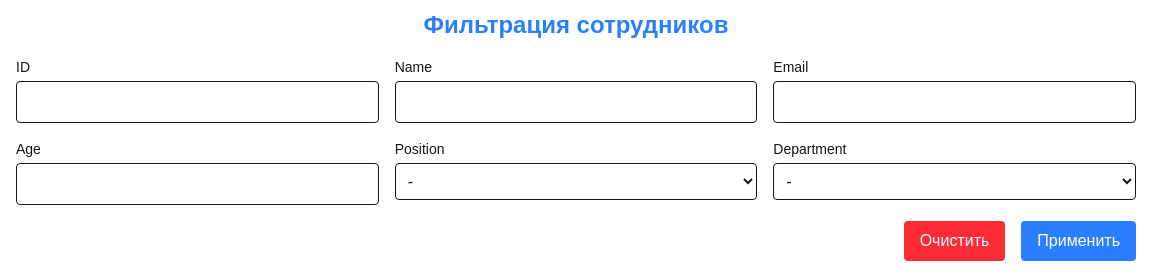
it: EmployeeFilter › сбрасывает фильтры и диспатчит пустой объект при "Очистить"
The image size is (1153, 279).
Type "10" into the field labelled "ID" at (197, 102), box [16,81,379,123]
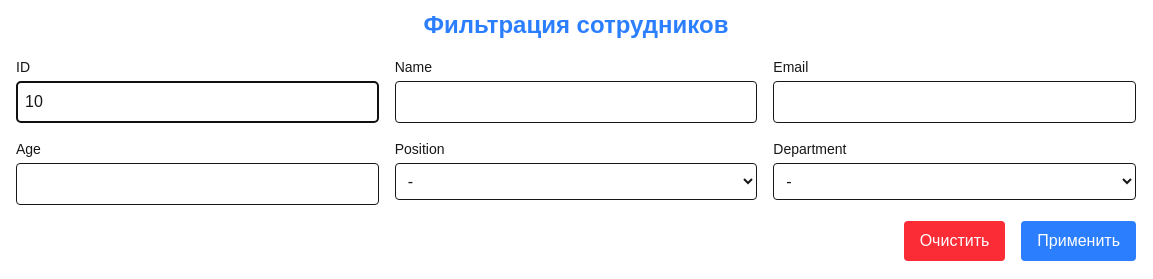
Click the button "Очистить" at (955, 241), box [904,221,1005,261]
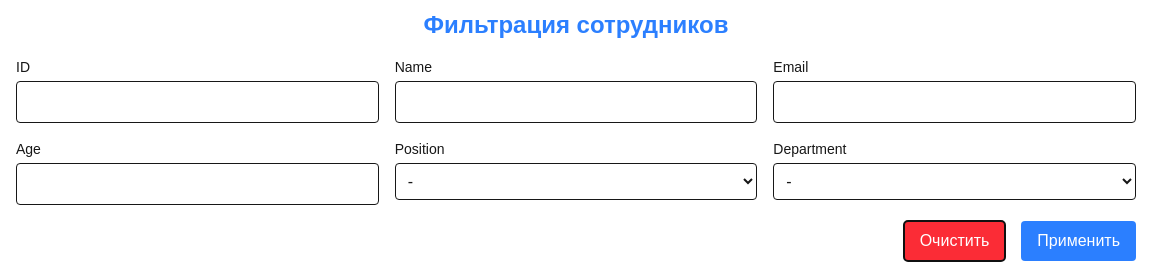
Expected: the field labelled "ID" is empty, [16,81,379,123]
